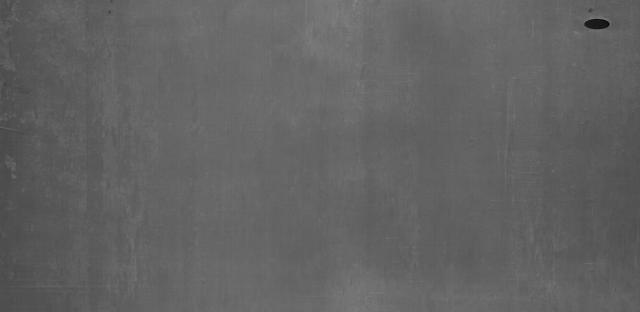punching_hole: (580, 16, 614, 32)
